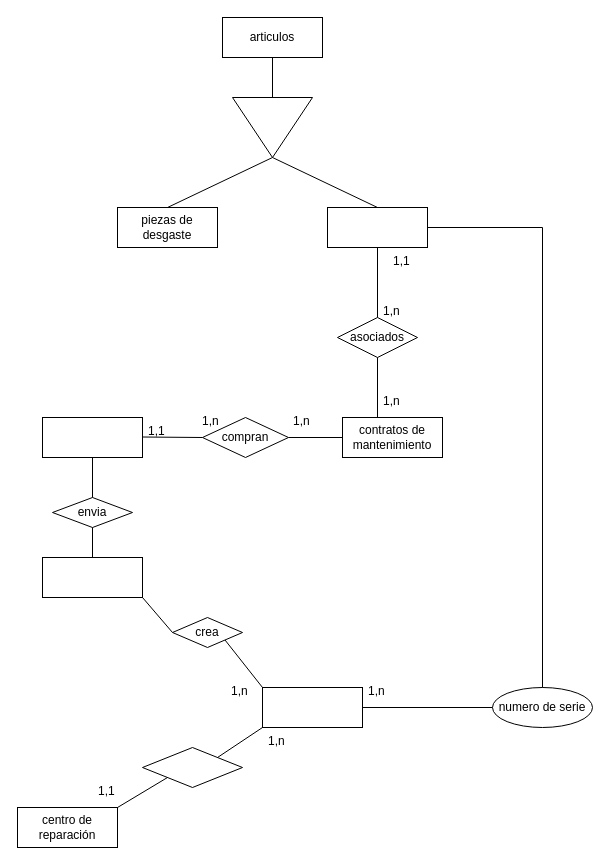
Some shapes in this 610 by 865 pixel diagram are drawn without their labels. Here are the shapes that lost their labels. From the top down, the box of each, then its label:
(326, 206, 428, 248): maquinas
(42, 416, 142, 458): clientes
(42, 556, 142, 598): sistema defectuoso
(262, 686, 362, 728): orden de reparación
(142, 746, 242, 788): asignado
